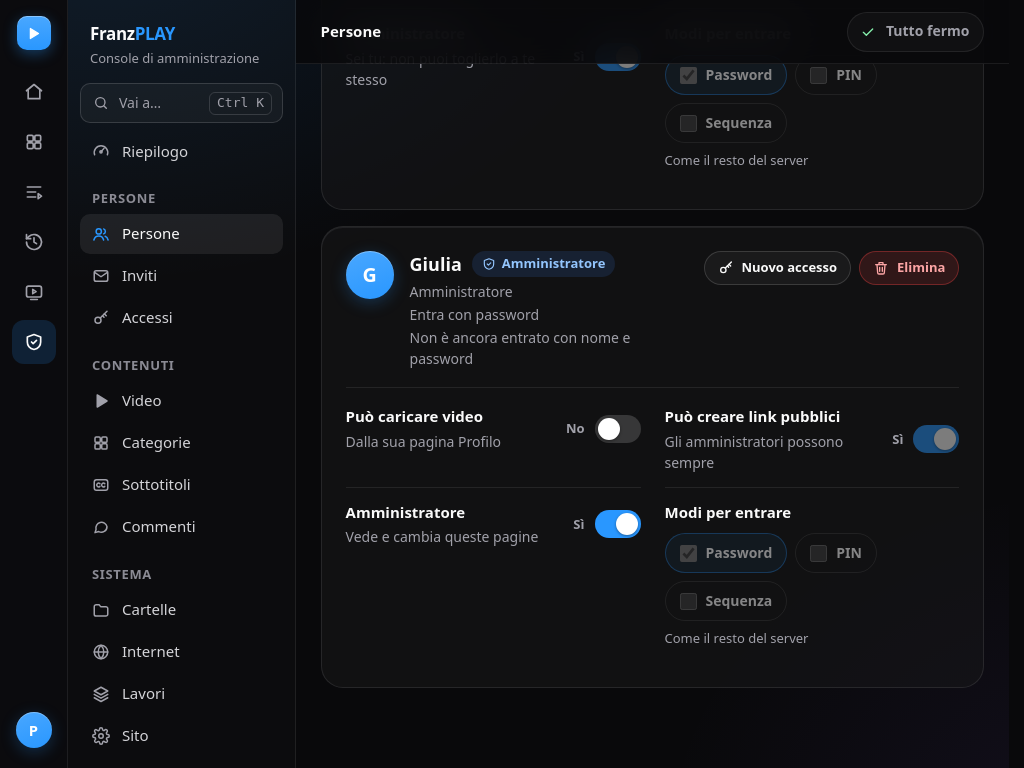
Scenario: people page › says the last administrator must stay
(page scrolled)
Click the switch labelled "Amministratore". click: (618, 524)
box: [594,510,640,538]
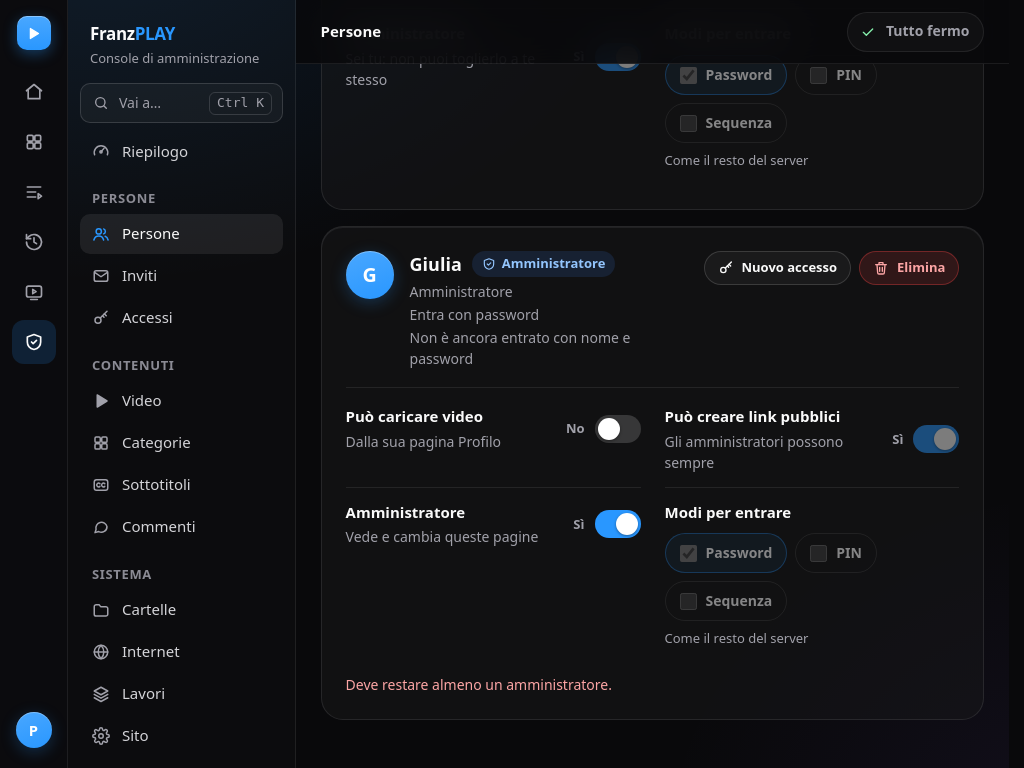
Result: the message reads "Deve restare almeno un amministratore." at [346,675,612,694]
